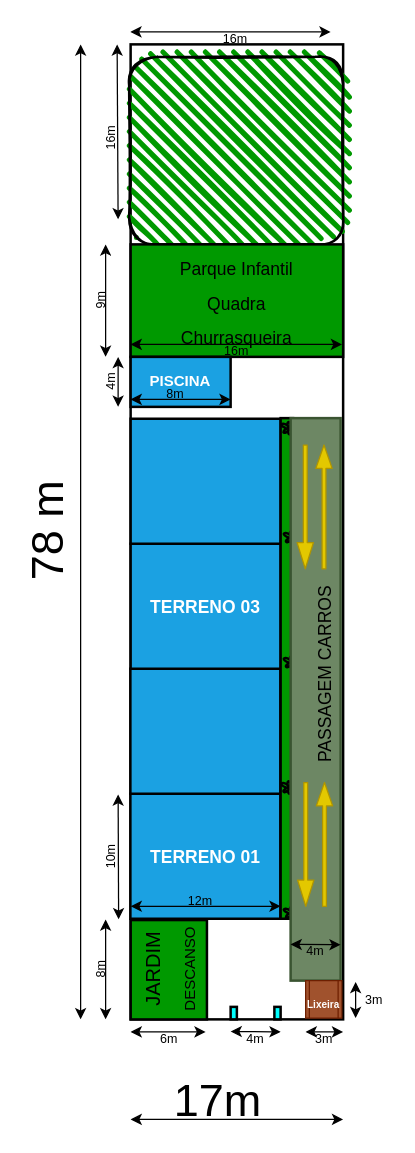
Some shapes in this 415 by 1153 pixel diagram are drawn without their labels. Here are the shapes that lost their labels. From the top down, the centre of each, then its label:
At [235,150]: "Plantação".
At [205,480]: "TERRENO 04".
At [204,730]: "TERRENO 02".
